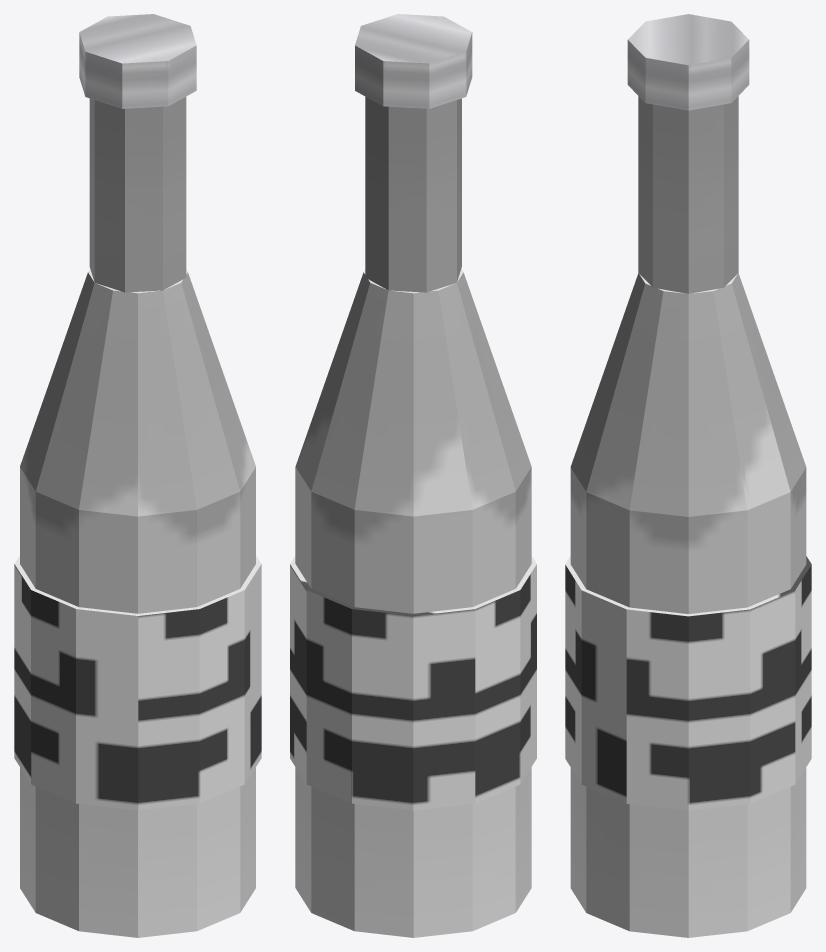
Rendered from birra.obj.
3 renders of one model, left to right at view 1: azimuth 30°, elevation 25°; view 2: azimuth 150°, elevation 25°; view 3: azimuth 270°, elevation 25°, orthographic.
Visible parts, largest first — view 1: birra; view 2: birra; view 3: birra.
Part boxes in pixels (x1,y1,x2,y2): birra: (14, 14, 261, 937); birra: (290, 14, 536, 937); birra: (565, 14, 811, 937).
Bounding box in the file's own units: 0.069 × 0.262 × 0.069.
3 materials, 3 textured.
